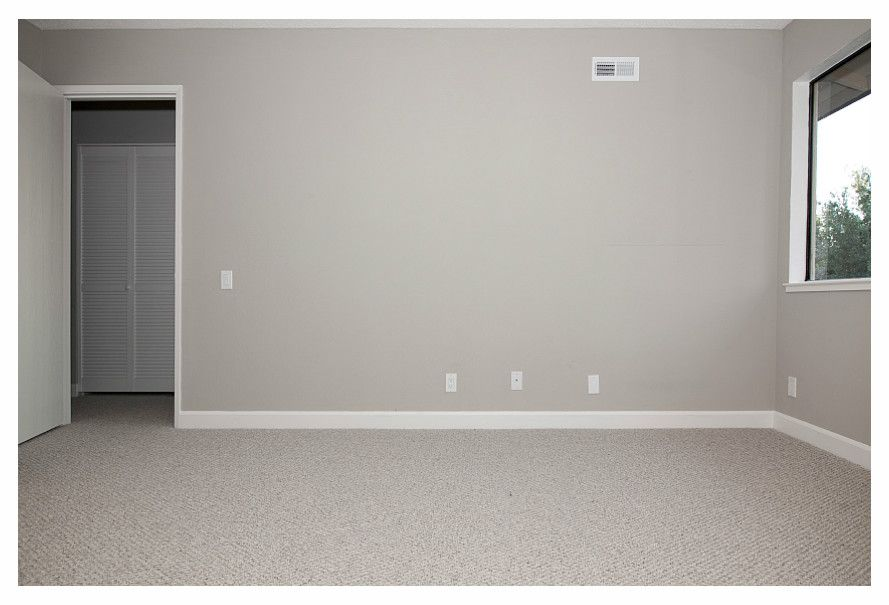door: (50, 85, 183, 428)
wall: (43, 27, 783, 434), (775, 20, 870, 472)
window: (788, 32, 871, 292)
